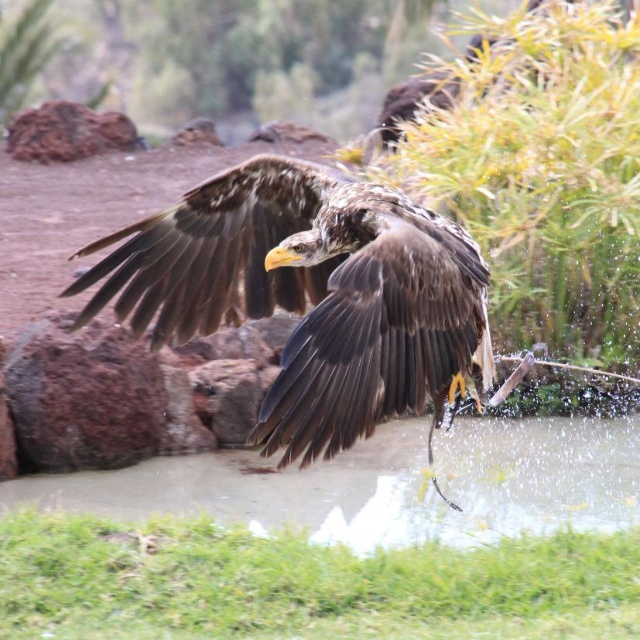Eagle: (56, 155, 490, 469)
